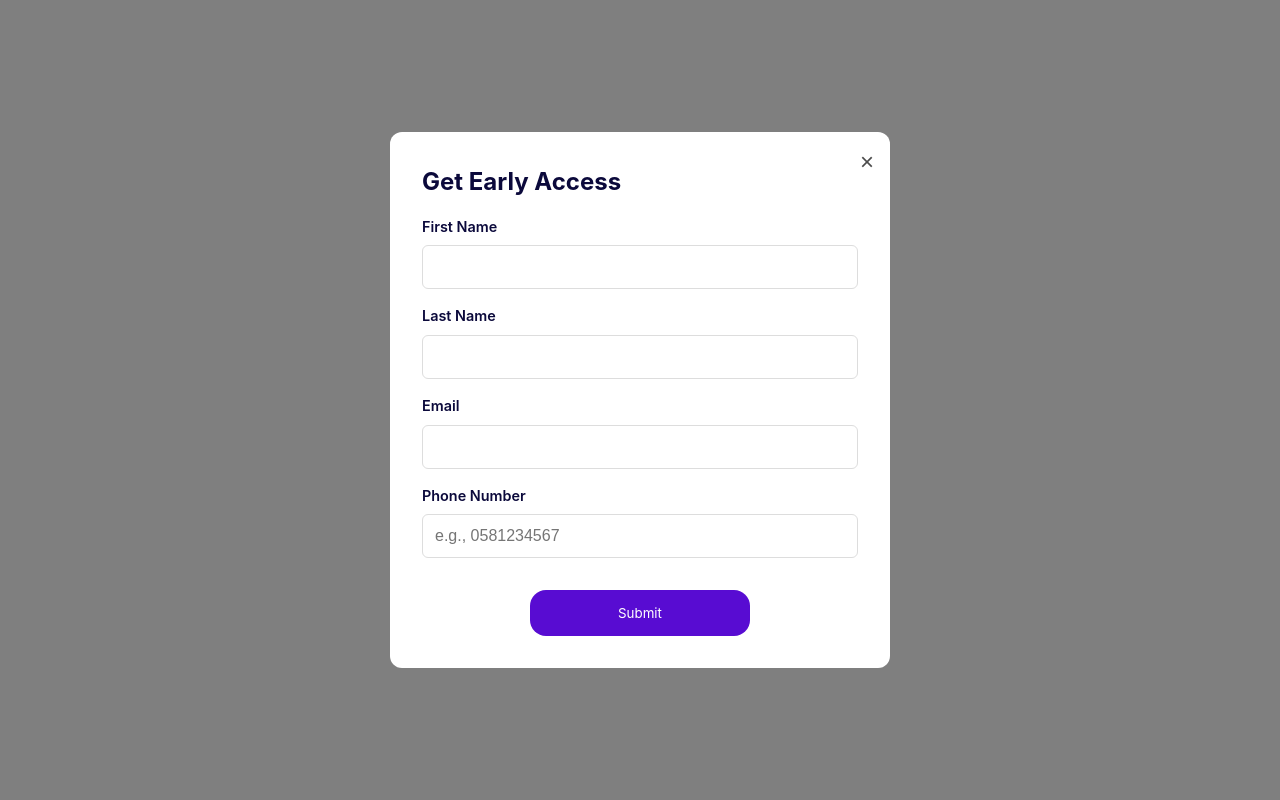
Scenario: ContactForm Modal › validates phone number format
Type "123" into the field labelled "Phone Number" at (640, 536), box [422,514,858,558]
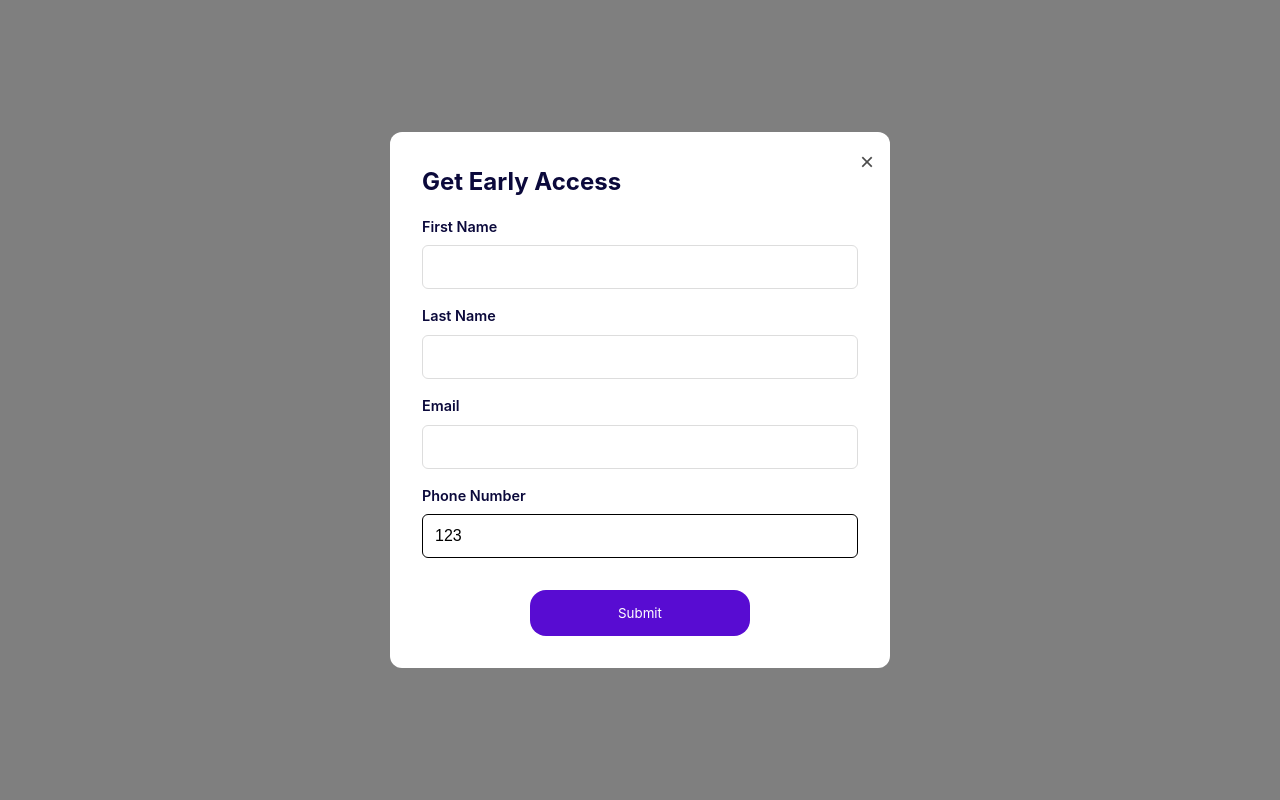
Click the button "Submit" at (640, 613), box [530,590,750,636]
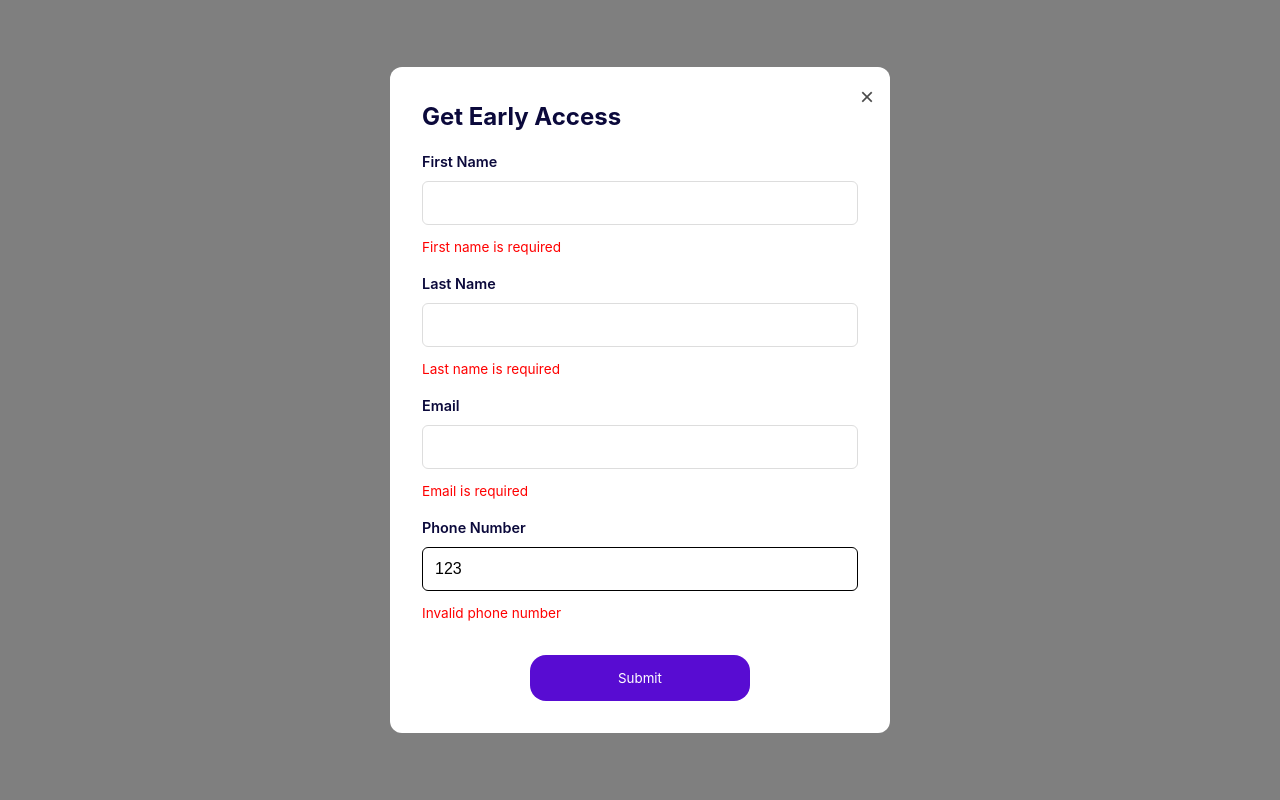
Check: the text "Invalid phone number" is shown, box [422,605,561,621]
